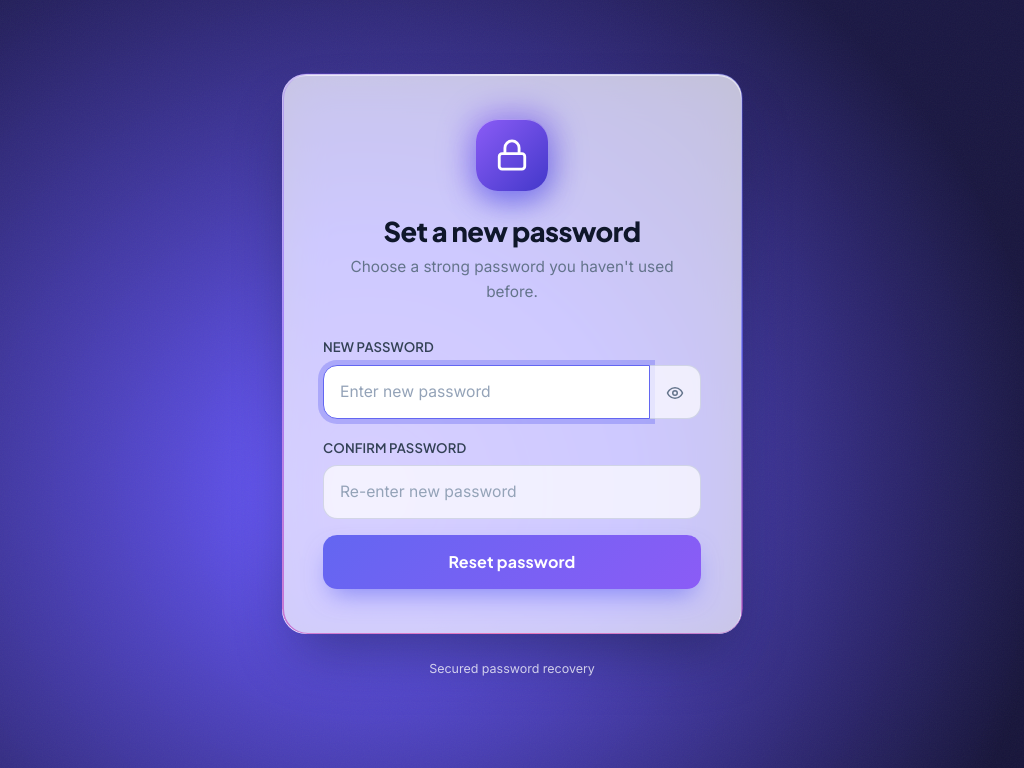
Test case: ResetPassword page › server rejection with expired message flips to the expired view
Type "newpass123" into the password field labelled "New password" at (486, 392), box [323, 365, 650, 418]
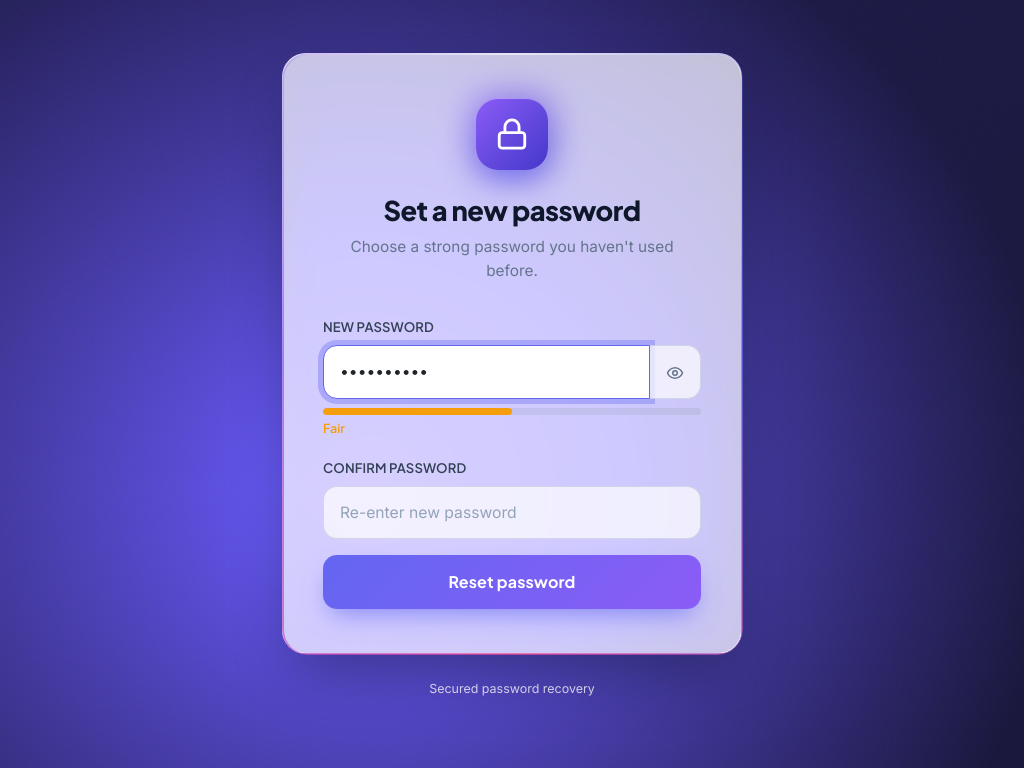
Type "newpass123" into the password field labelled "Confirm password" at (512, 512), box [323, 486, 701, 539]
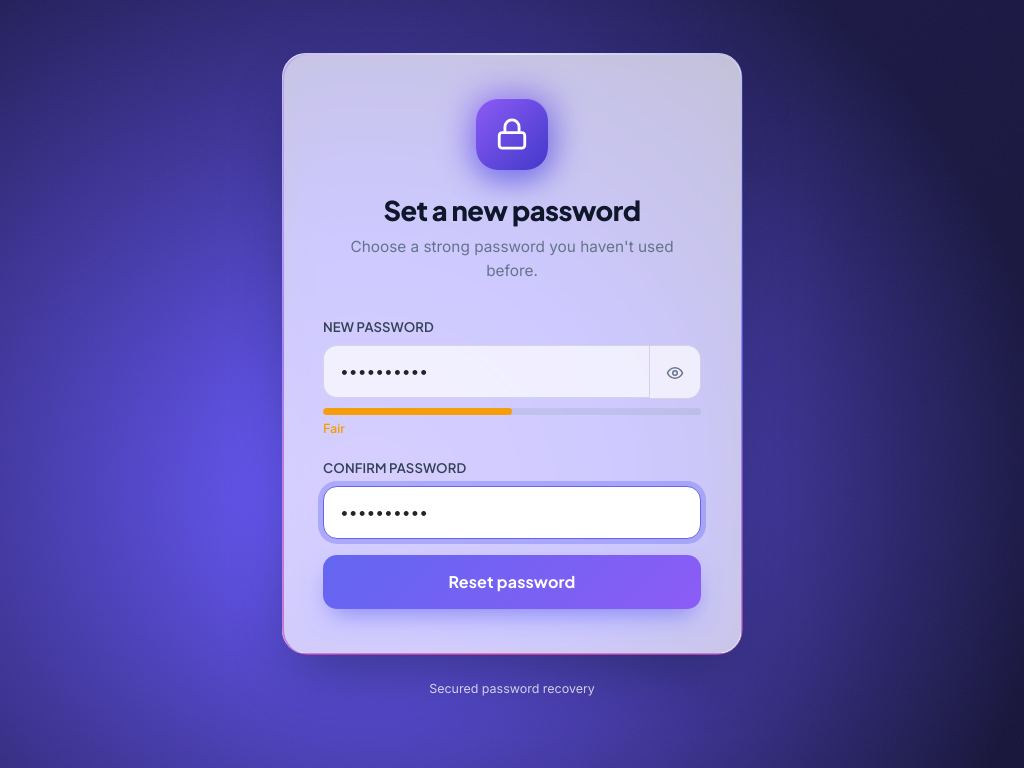
Click the button "Reset password" at (512, 582), box [323, 555, 701, 609]
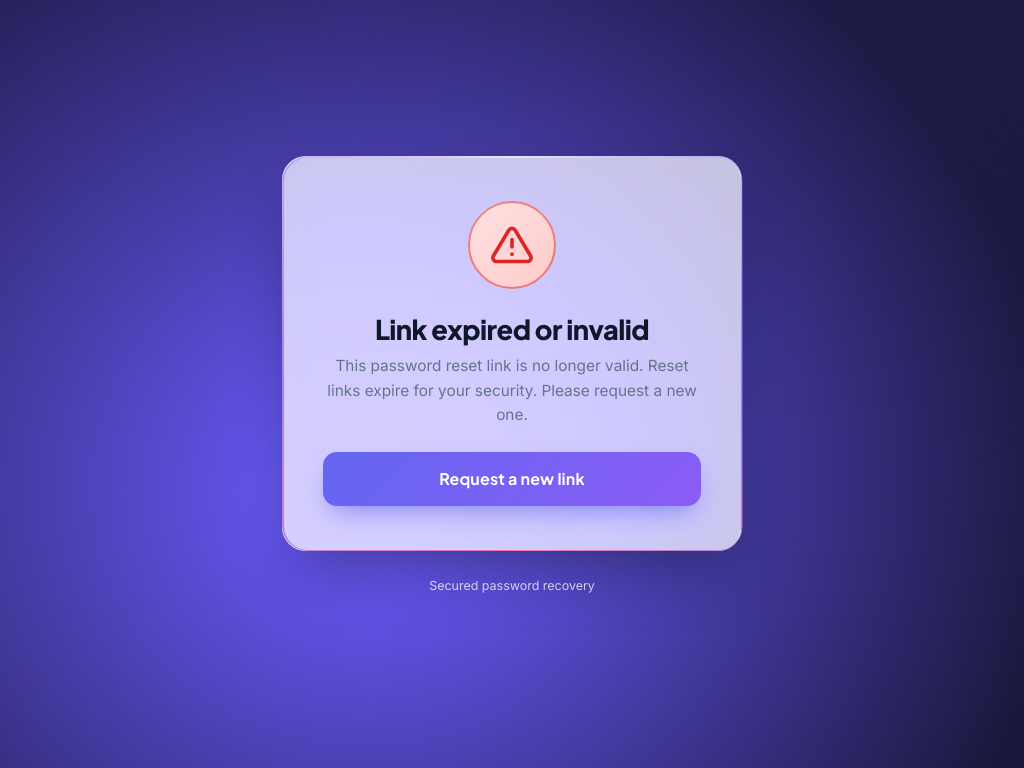
Now the heading "Link expired or invalid" is shown, box [375, 312, 649, 346]
